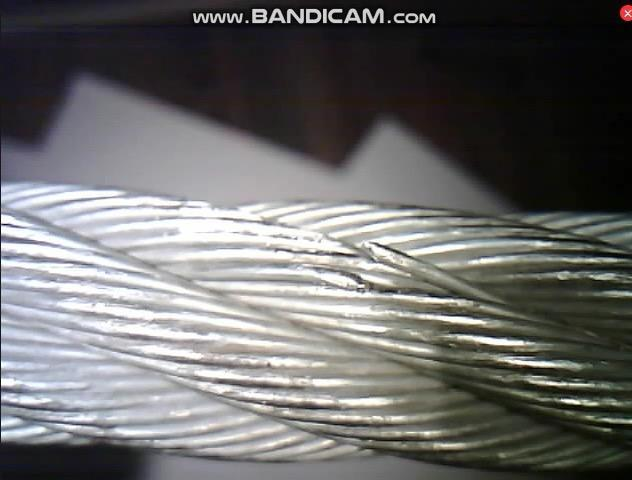break: (335, 235, 386, 301)
